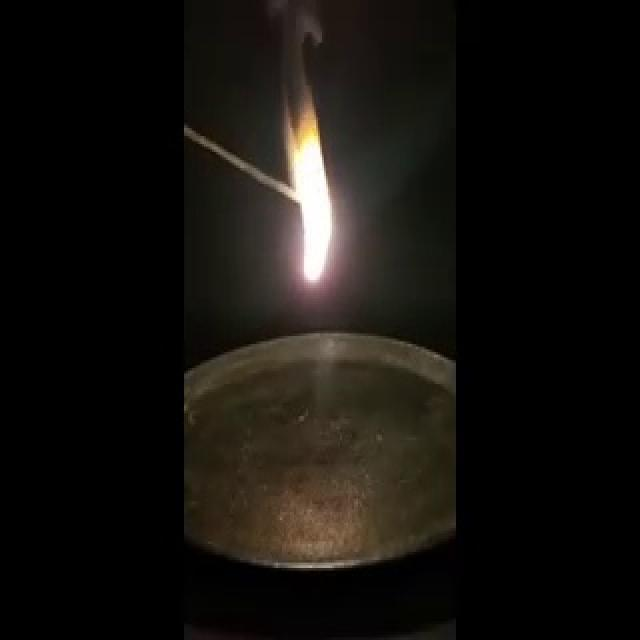fire: (264, 43, 346, 304)
